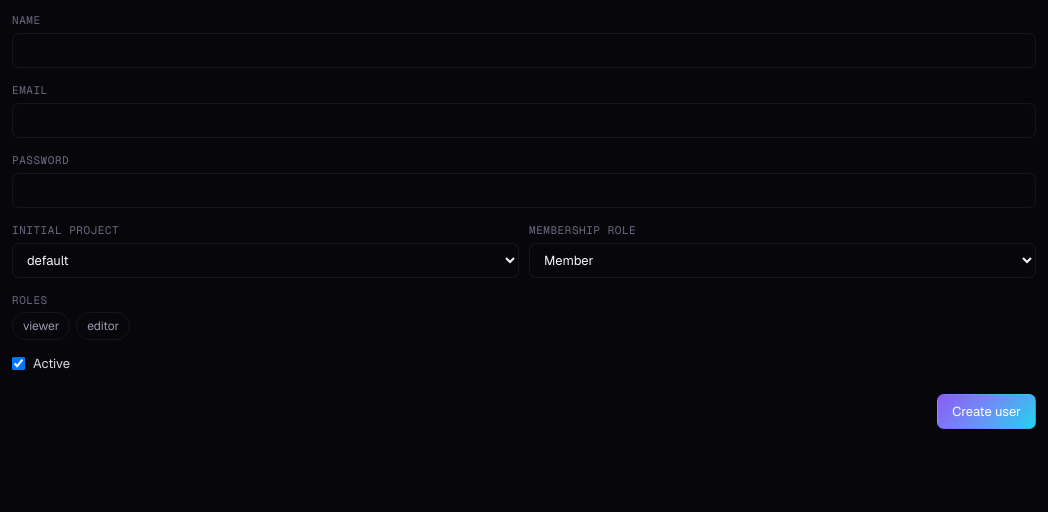
Test case: UserForm › renders zod field errors with the documented testids on submit
// Submit empty — name, email, password must all fail.
Step 1. Click the button with test id "user-form-submit" → point(987, 411), box [937,394,1036,429]
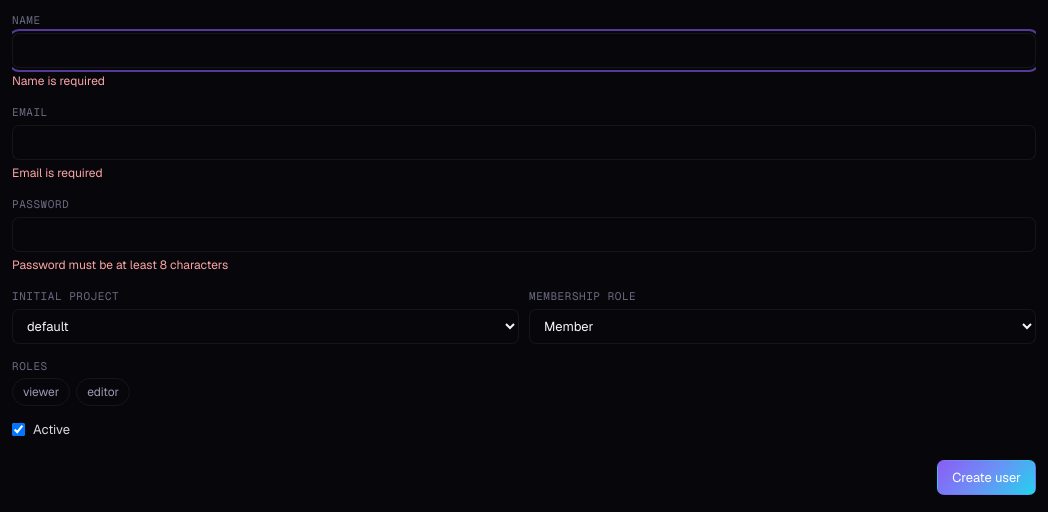
Expected: the text "Name is required" is shown, [12,73,105,89]
Expected: the text "Email is required" is shown, [12,165,103,181]
Expected: the text "Password must be at least 8 characters" is shown, [12,257,228,273]
